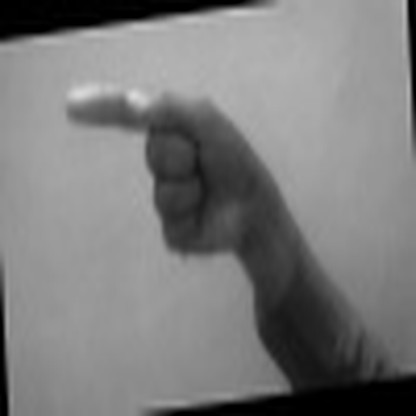g: (53, 75, 259, 258)
